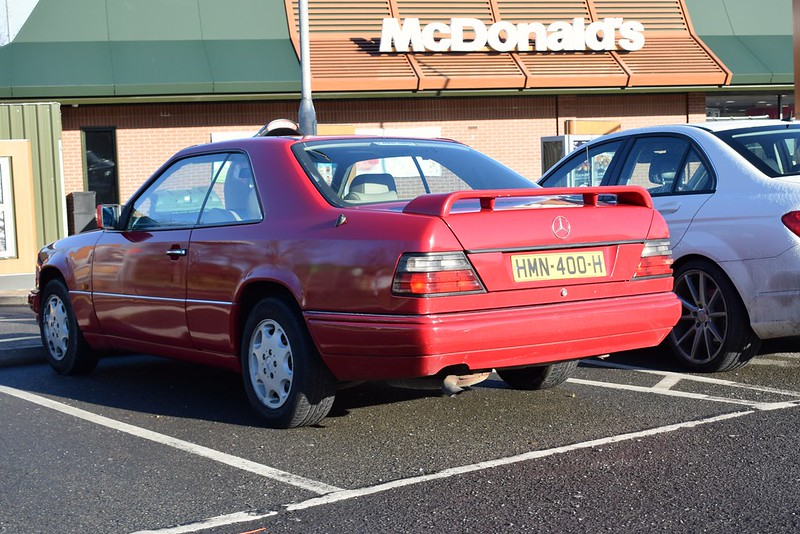number_plate: (493, 245, 632, 289)
